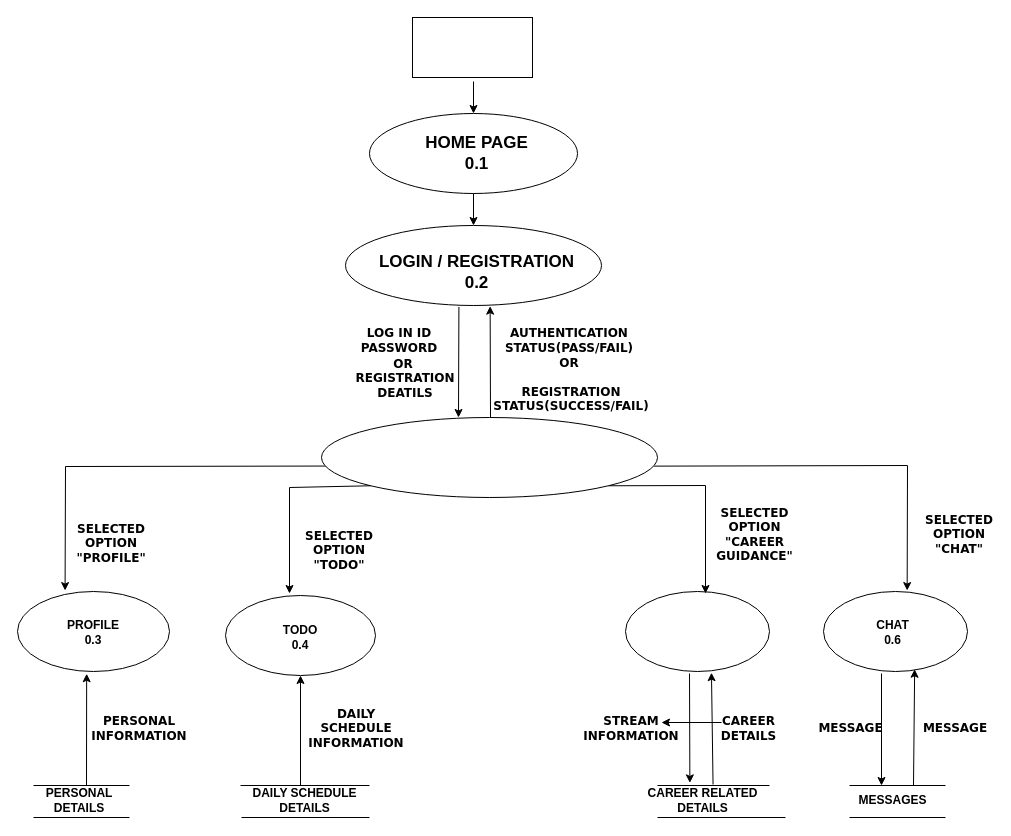
Some shapes in this 1011 by 836 pixel diagram are drawn without their labels. The shapes that lost their labels are listed below. From the top down, each one's box as (x1, y1, x2, y2) in pixels, then its label:
(412, 16, 532, 78): STUDENT
(320, 416, 658, 498): MENU OF MODULES 0.2
(624, 590, 770, 672): CAREER GUIDANCE 0.5
